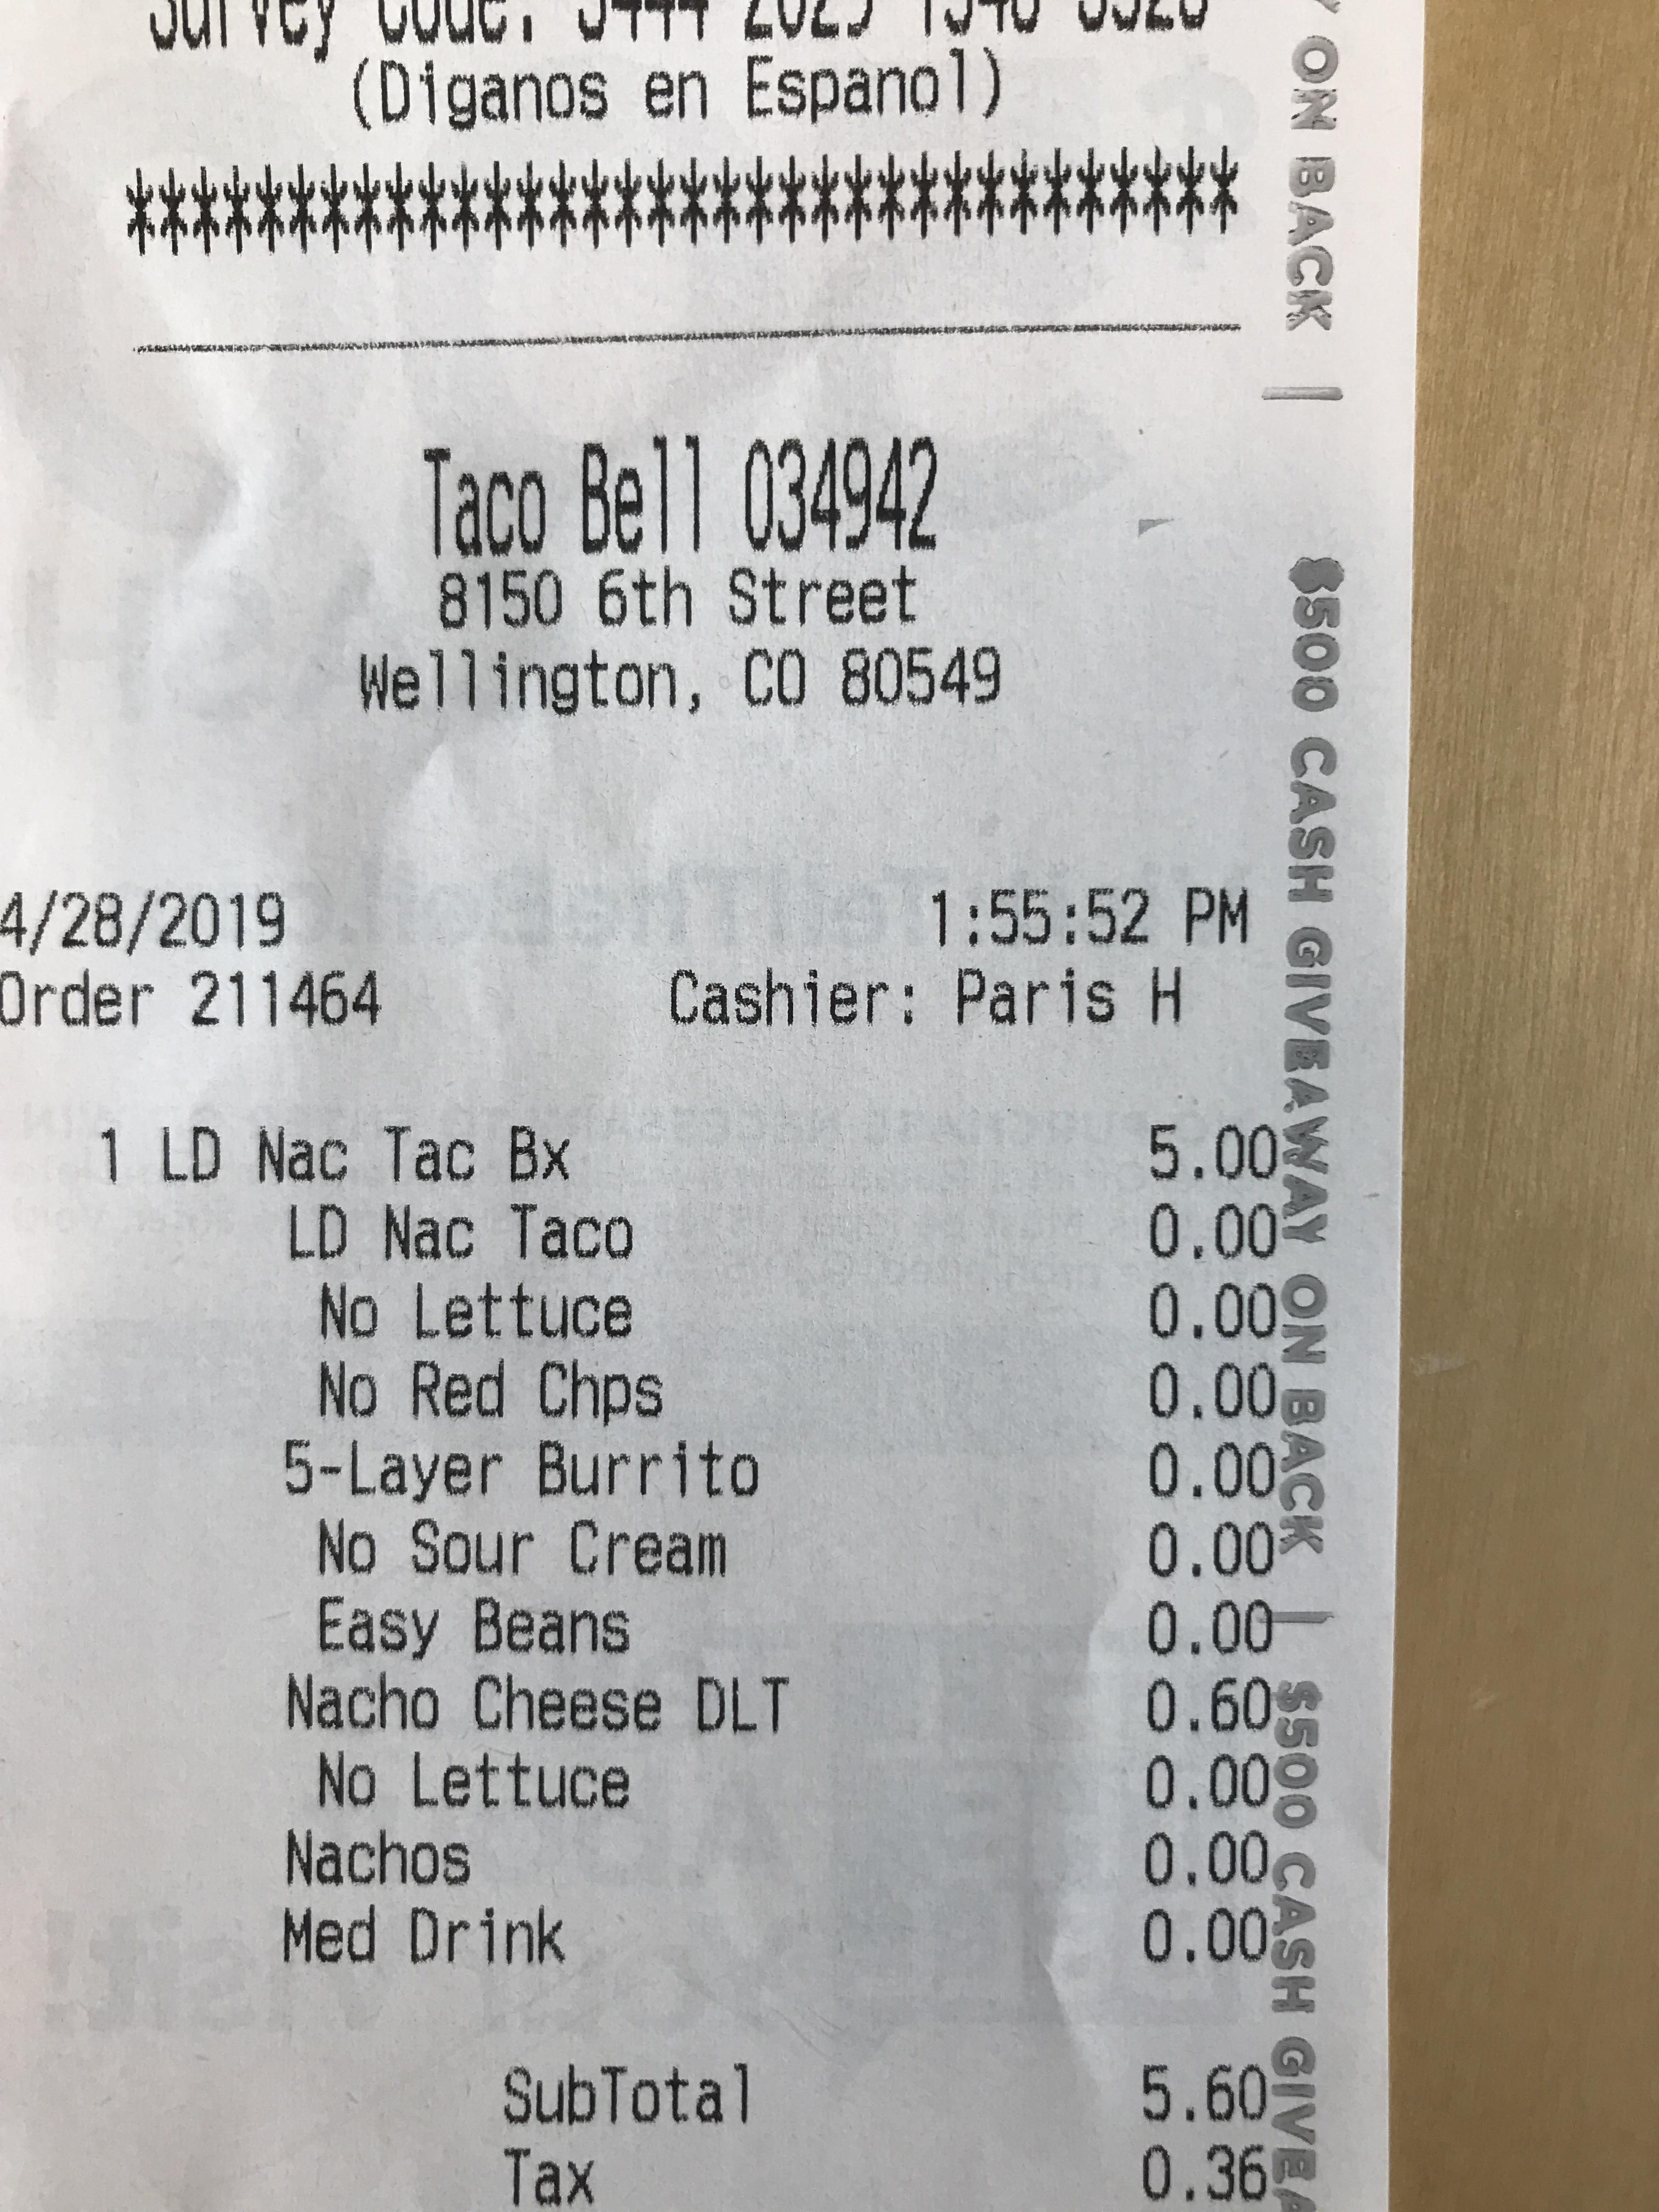Taco Bell: (392, 423, 725, 570)
